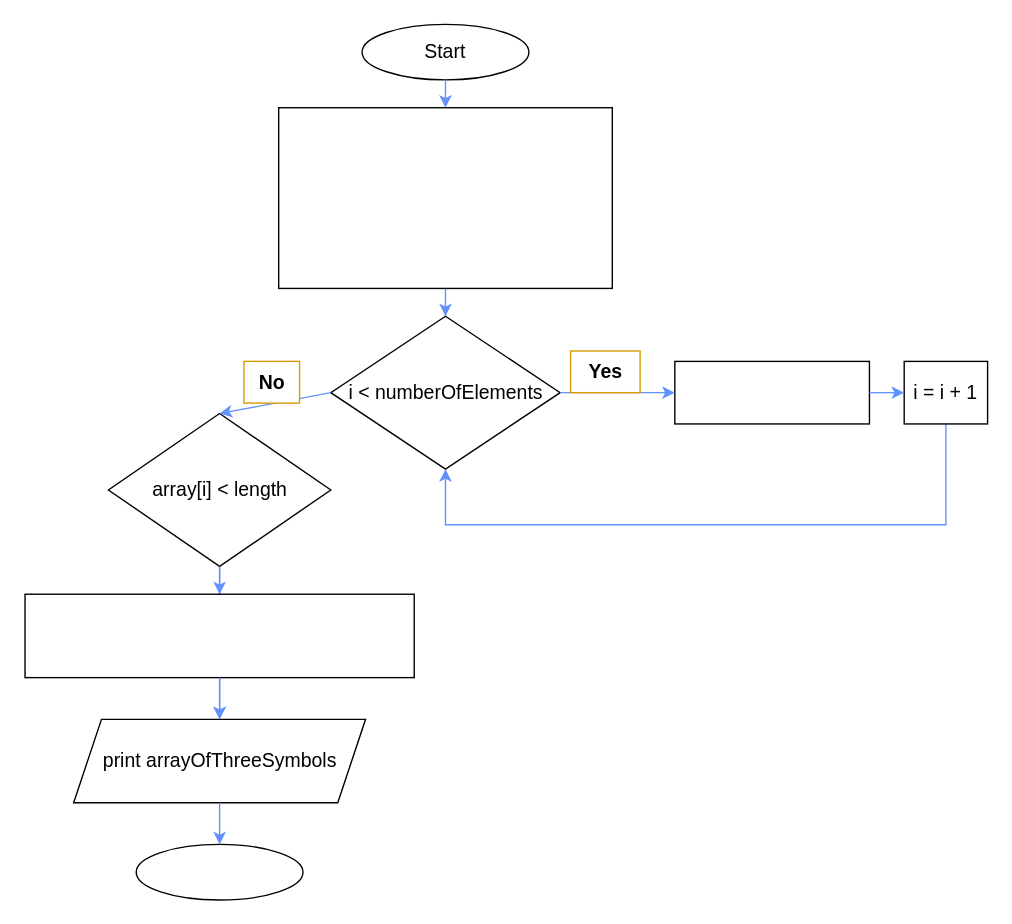
Some shapes in this 1012 by 924 pixel diagram are drawn without their labels. The shapes that lost their labels are listed below. From the top down, each one's box as (x1, y1, x2, y2) in pixels, then its label:
(277, 106, 612, 288): numberOfElements array arrayOfThreeSymbols length = 4 i = 0
(673, 360, 869, 424): input array[i]
(24, 593, 414, 678): arrayOfThreeSymbols = arrayOfThreeSymbols + array[i]
(135, 843, 303, 900): End
